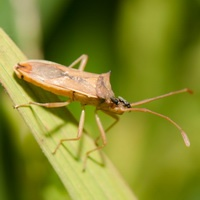insect: (14, 54, 192, 171)
